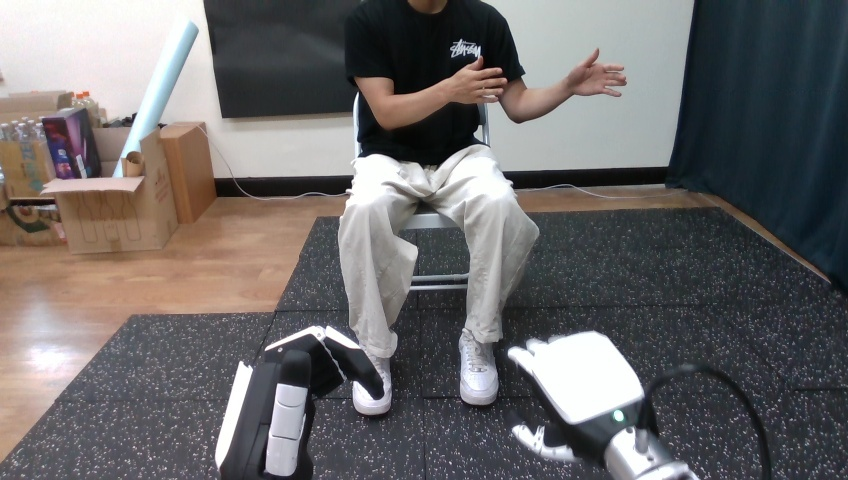left robot hand: (215, 326, 384, 479), (565, 48, 625, 96), (448, 56, 507, 103)
